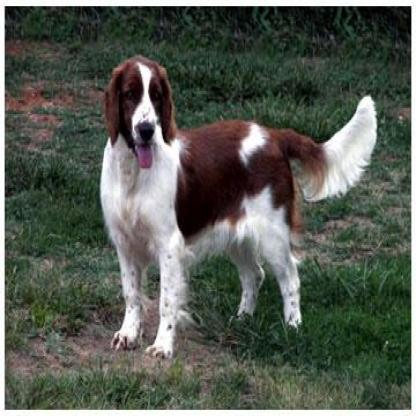Welsh_springer_spaniel: (88, 43, 380, 362)
